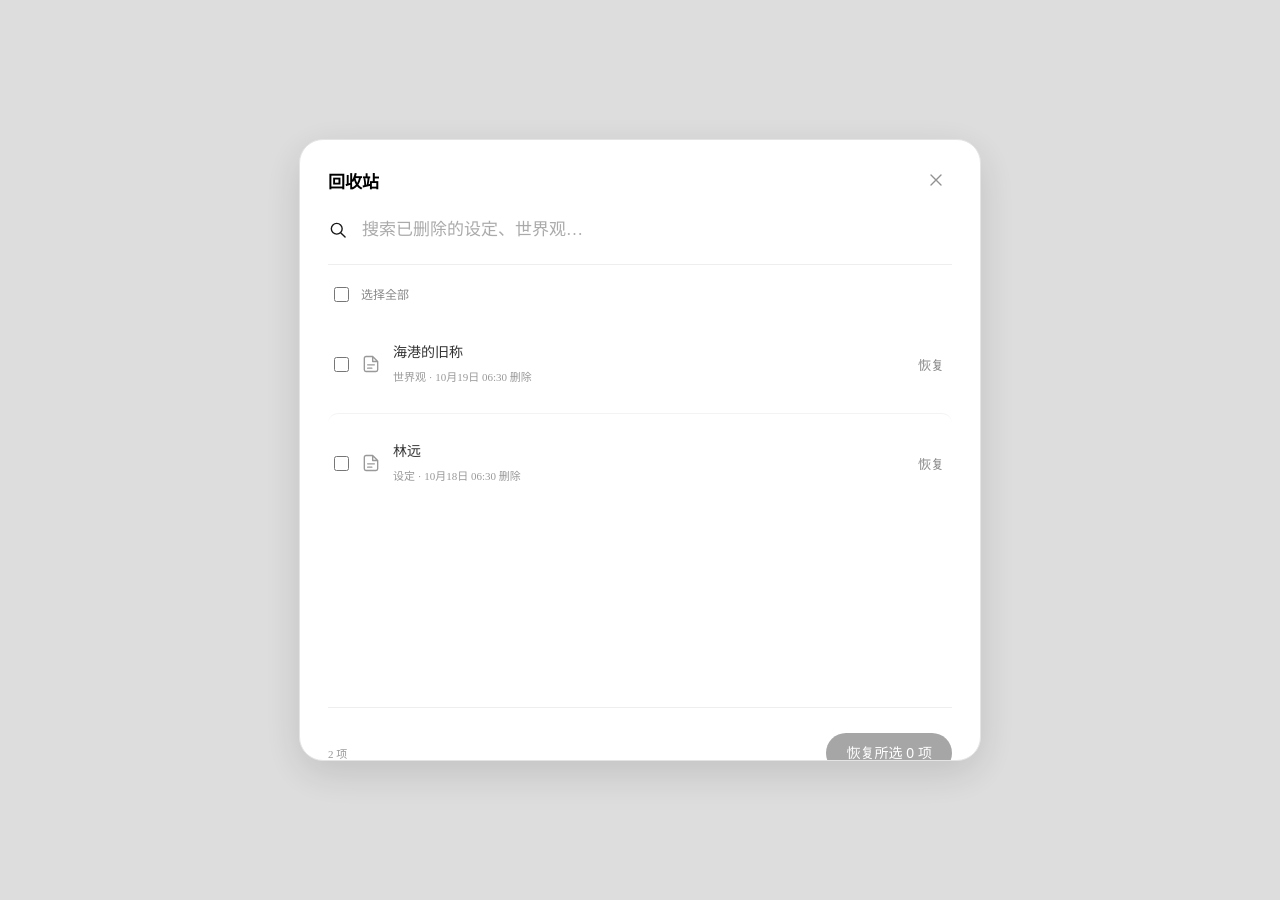
it: loads durable entries and keeps failed batch restores selected for an explicit retry
Check: the text "海港的旧称" is shown, box [393, 345, 463, 360]
What coordinates should you click on to do the following:
click the checkbox named "选择海港的旧称"
I would click on:
 (342, 364)
Its box is [334, 356, 349, 372].
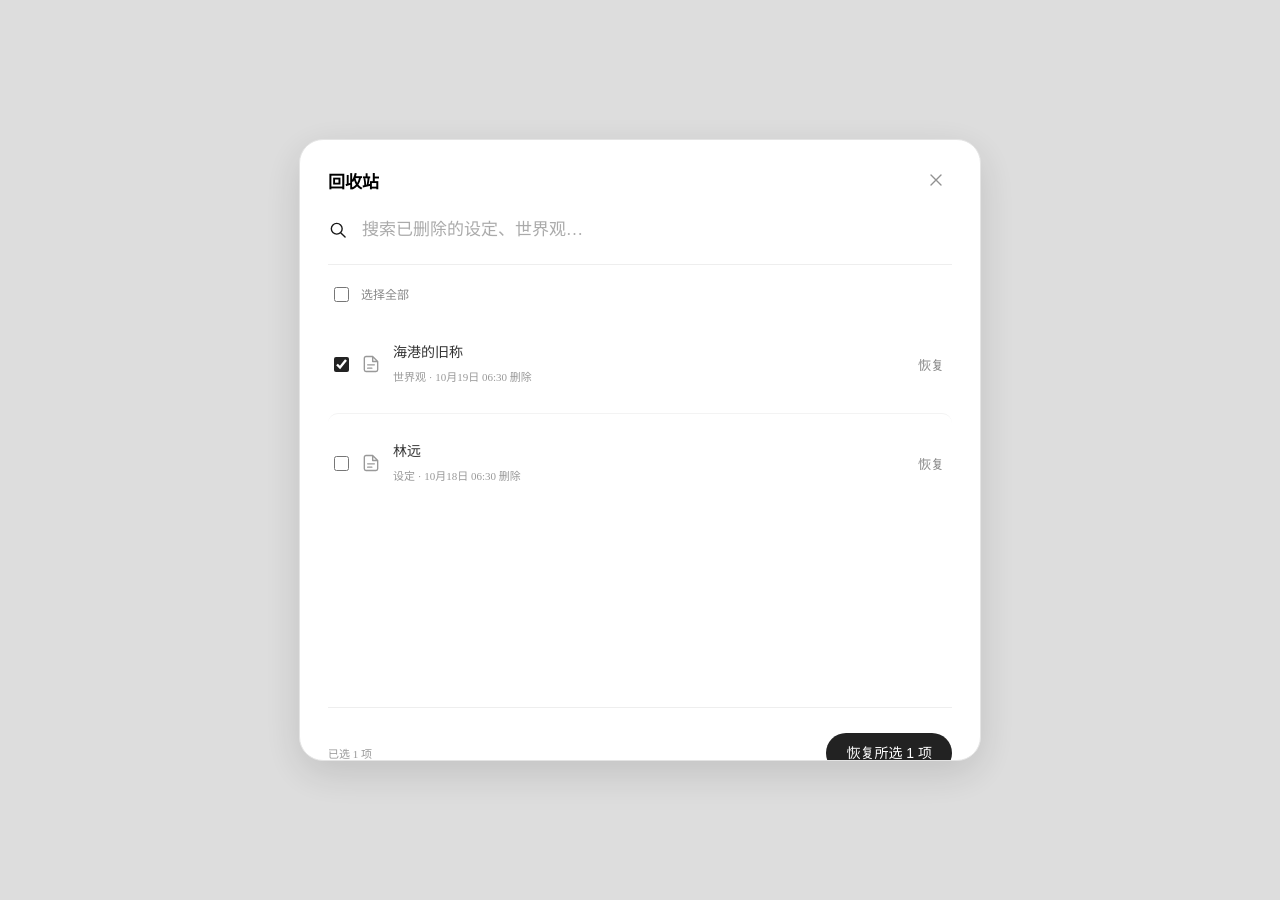
What coordinates should you click on to do the following:
click the checkbox named "选择林远"
I would click on:
 (342, 463)
Its box is [334, 456, 349, 470].
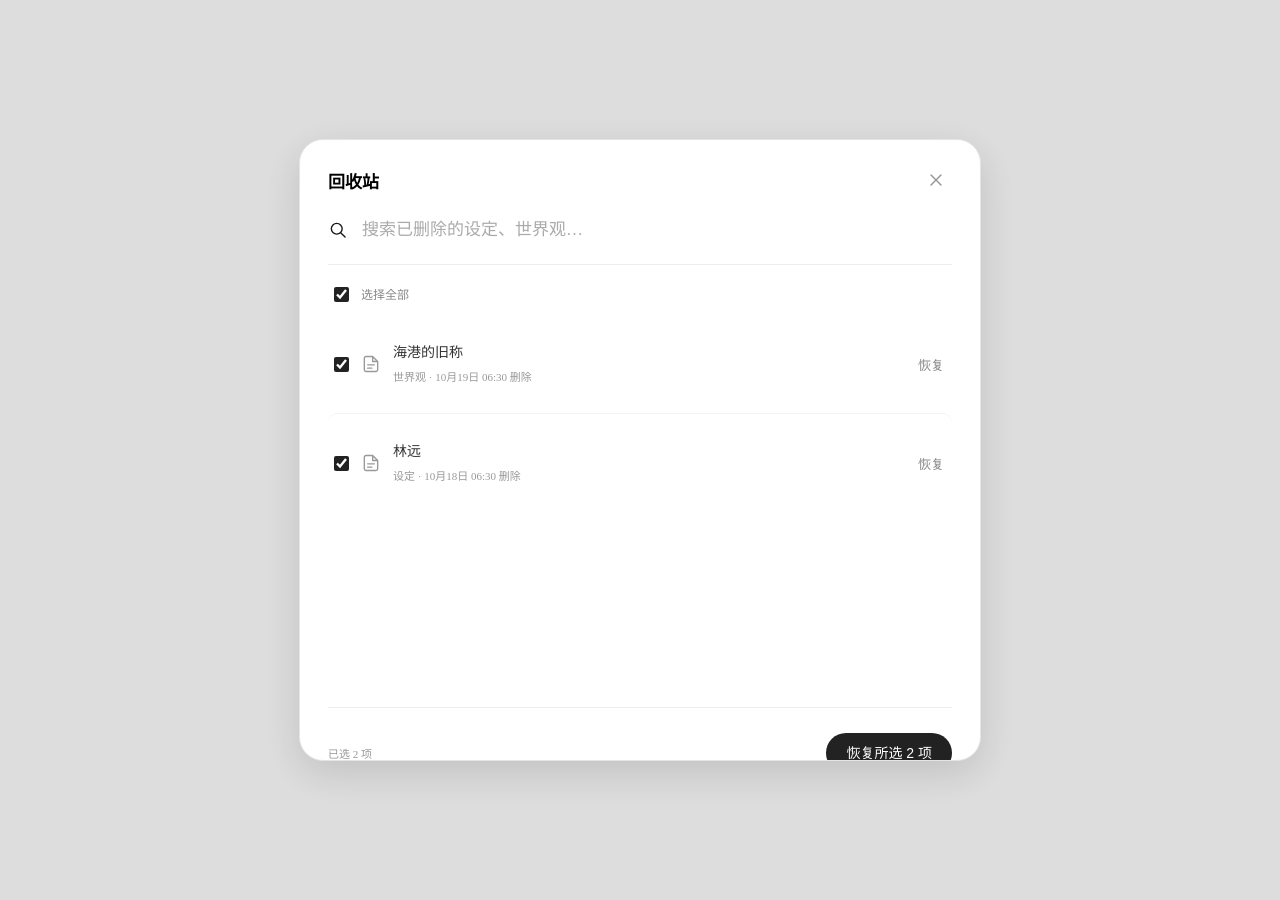
What coordinates should you click on to do the following:
click the button "恢复所选 2 项"
I would click on:
 (889, 753)
Its box is [826, 733, 952, 773].
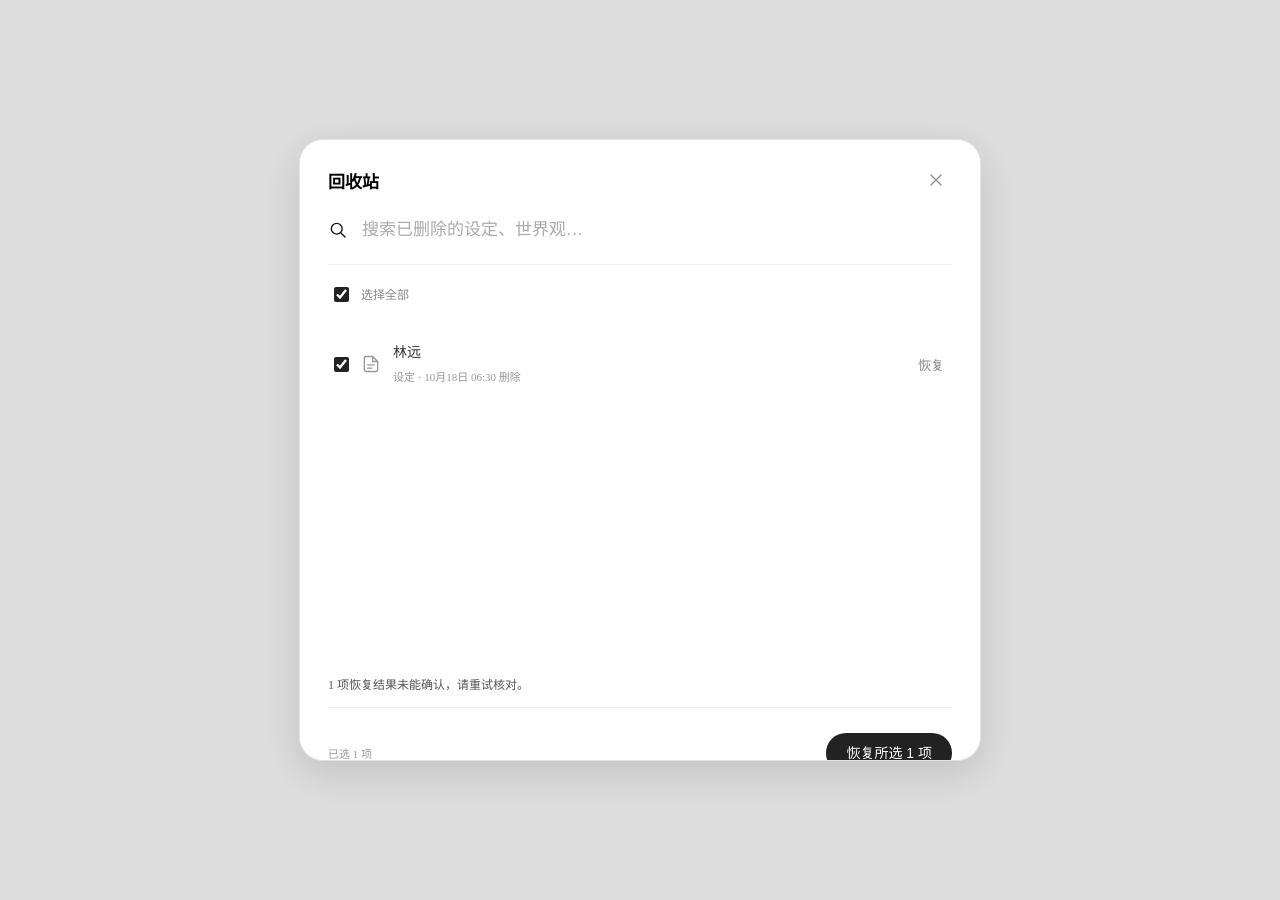
Check: the checkbox named "选择林远" is checked, box [334, 356, 349, 372]
Check: the text "海港的旧称" is gone
Check: the message shows "1 项恢复结果未能确认", box [328, 678, 529, 692]
What coordinates should you click on to do the following:
click the button "恢复所选 1 项"
I would click on:
 (889, 753)
Its box is [826, 733, 952, 773].
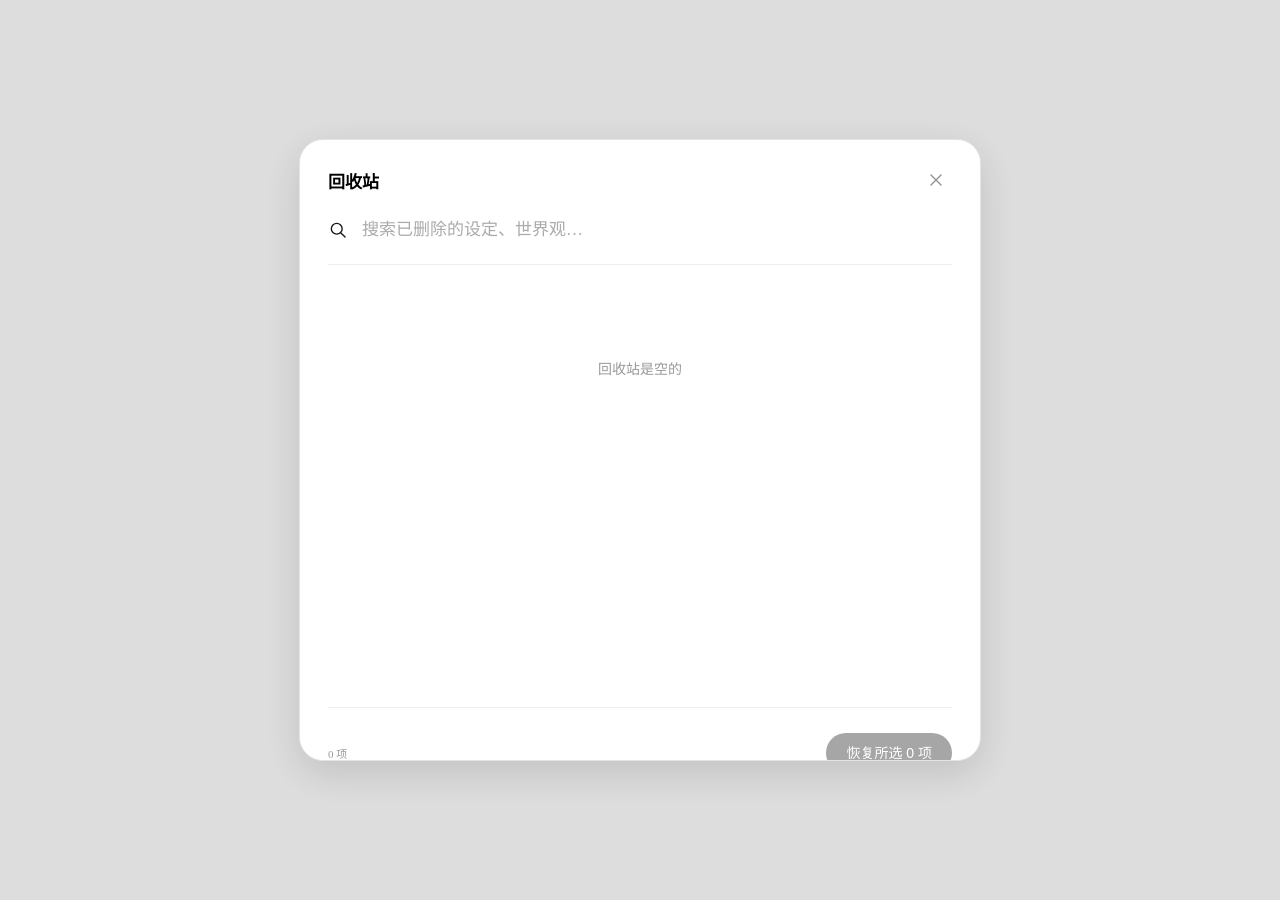
Check: the message reads "回收站是空的", box [598, 362, 682, 377]
